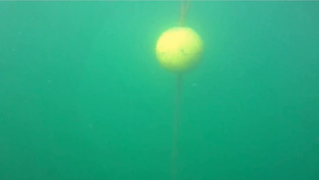buoy: (155, 26, 205, 73)
